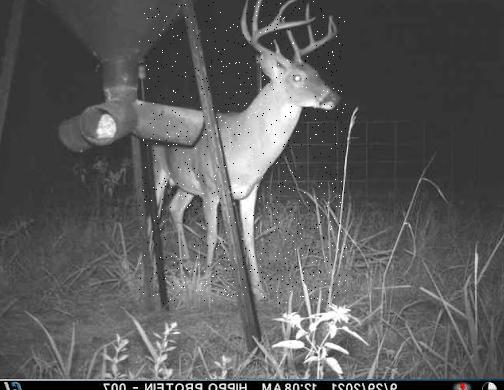Deer: (139, 0, 347, 304)
